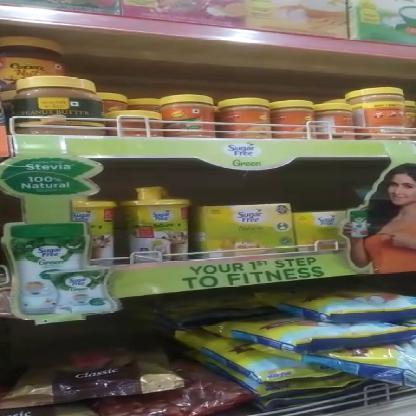SUGAR FREE NATURA SACHET 50: (202, 204, 293, 249), (296, 212, 351, 245)
